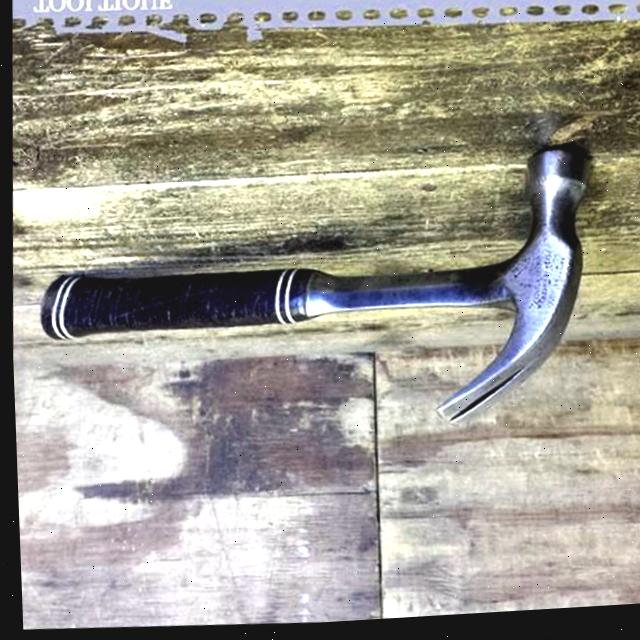hammer: (16, 124, 614, 463)
